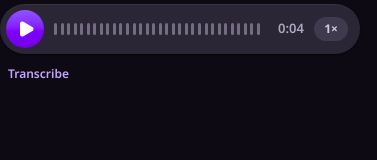
Scenario: cancels a download without showing a failure or leaving a progress hint
The image size is (377, 160).
Click the button "Transcribe": coordinates (38, 74) [8,58,69,90]
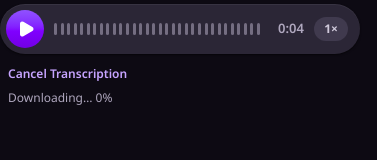
Click the button "Cancel Transcription": coordinates (68, 74) [8,58,127,90]
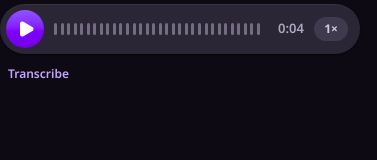
Check: the button "Transcribe" is shown, box [8,58,69,90]
Check: the message "Downloading… 0%" is gone
